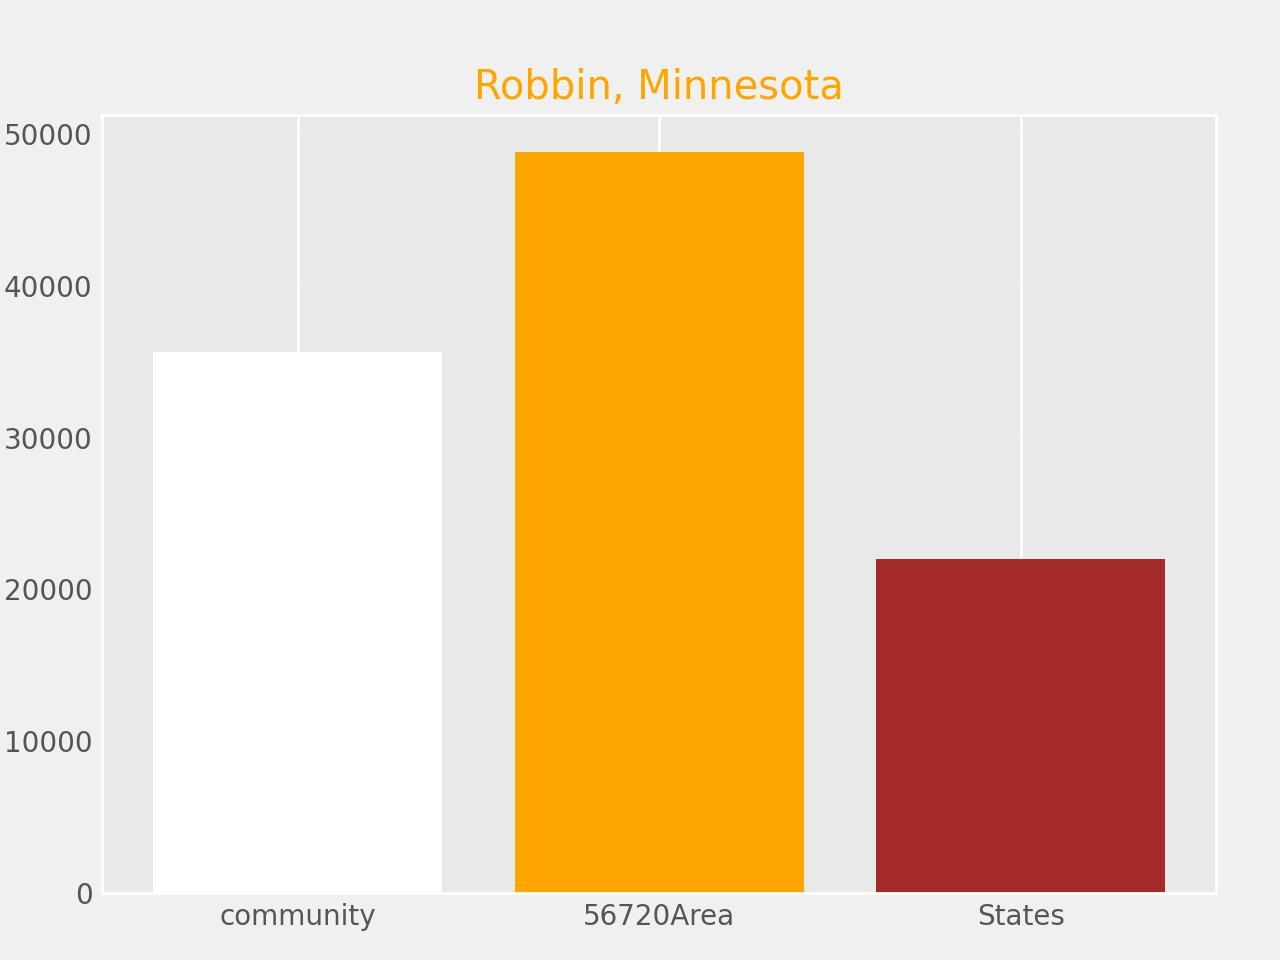axis: (0, 123, 93, 910)
rectangle: (514, 152, 804, 893), (153, 352, 442, 892), (876, 558, 1166, 892)
